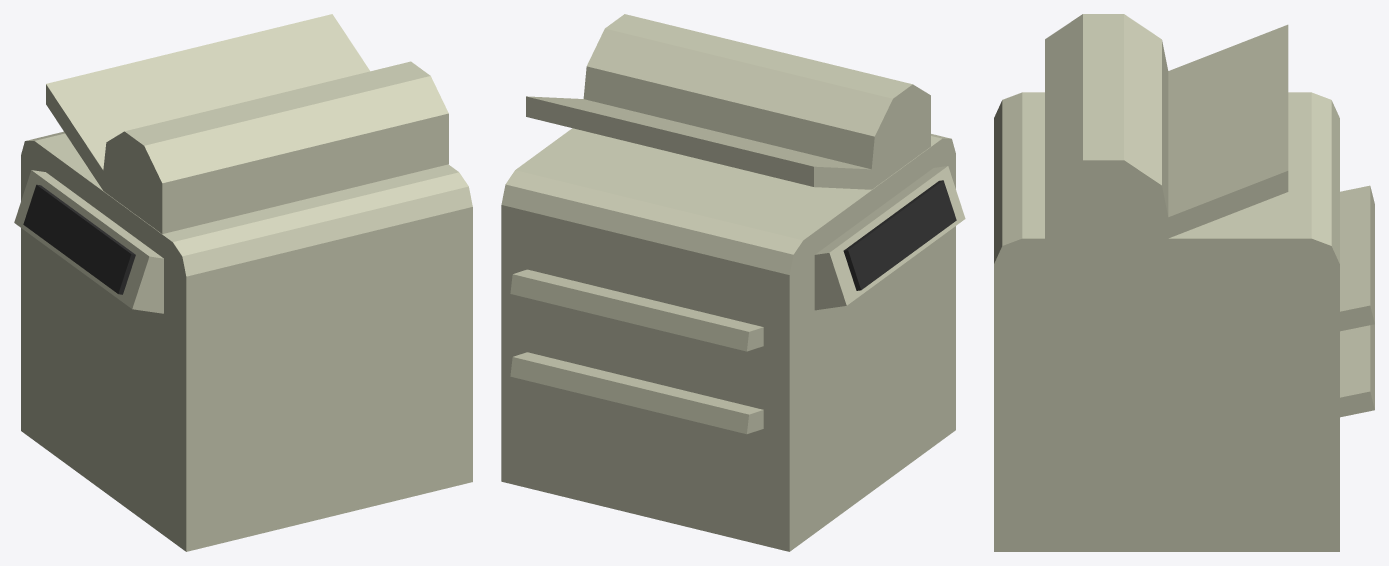
Rendered from copier.fbx.
The picture shows the model from 3 angles, left to right: view 1: azimuth 30°, elevation 25°; view 2: azimuth 150°, elevation 25°; view 3: azimuth 270°, elevation 25°; orthographic projection. The views are drawn at different scales.
Visible parts, largest first — view 1: Cube, Cube.001, Cube.003, Cube.002; view 2: Cube, Cube.001, Cube.004, Cube.005, Cube.003, Cube.002; view 3: Cube, Cube.001, Cube.004, Cube.005.
Boxes of the visible parts, <box> form: Cube: <box>21,131,472,551</box>; Cube.001: <box>46,14,448,233</box>; Cube.003: <box>23,184,135,294</box>; Cube.002: <box>14,170,163,313</box>; Cube: <box>501,128,955,551</box>; Cube.001: <box>526,14,930,189</box>; Cube.004: <box>510,269,763,351</box>; Cube.005: <box>510,352,763,434</box>; Cube.003: <box>843,180,956,290</box>; Cube.002: <box>814,166,965,310</box>; Cube: <box>994,92,1339,551</box>; Cube.001: <box>1045,14,1288,238</box>; Cube.004: <box>1340,185,1374,331</box>; Cube.005: <box>1340,324,1374,417</box>.
Bounding box in the file's own units: 224 × 250 × 220.
